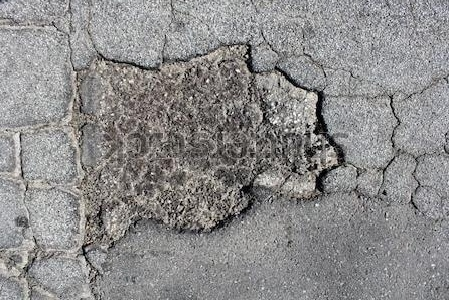pothole: (70, 40, 347, 240)
